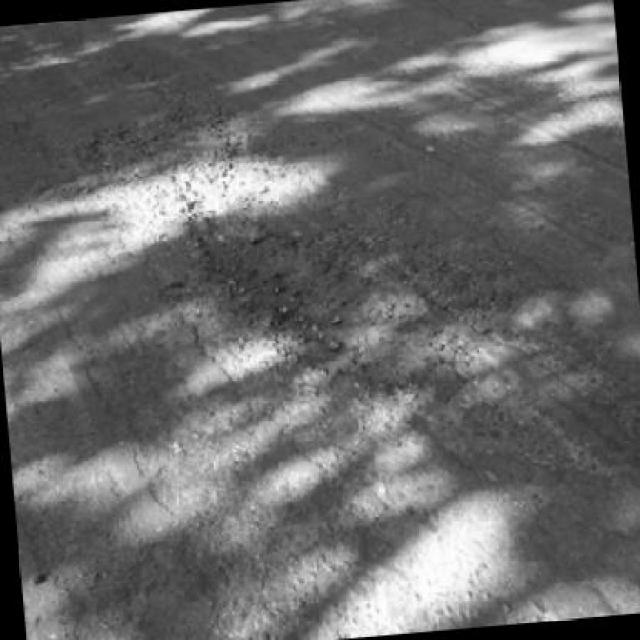pothole: (181, 193, 402, 384)
